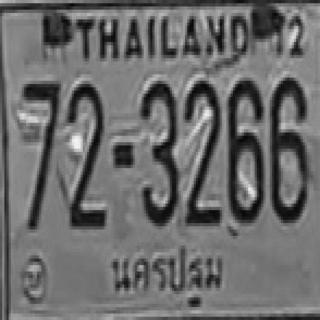N02: (65, 81, 105, 226), (183, 79, 220, 225)
N03: (139, 78, 176, 223)
N06: (268, 74, 307, 220), (226, 78, 261, 220)
N07: (19, 79, 60, 228)
P28: (111, 242, 228, 312)
